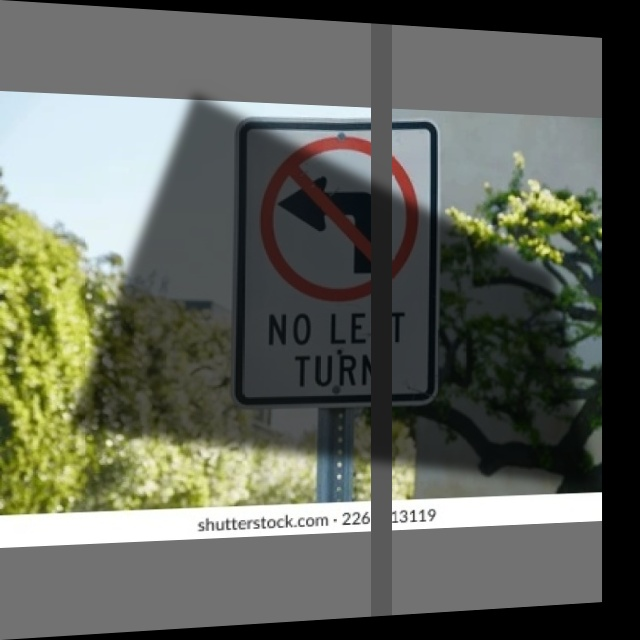Left_Turn_Prohibited: (253, 130, 422, 307)
